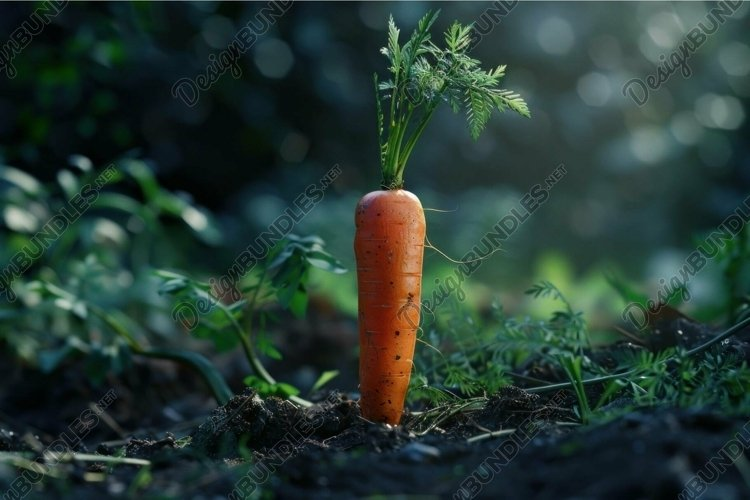carrot: (331, 12, 502, 452)
